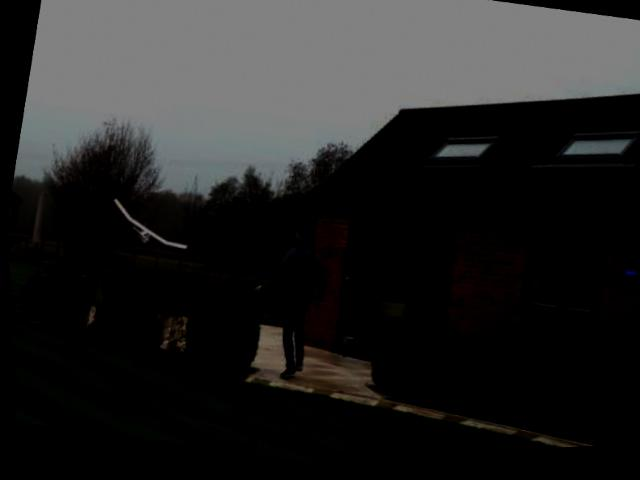uav: (91, 183, 201, 270)
